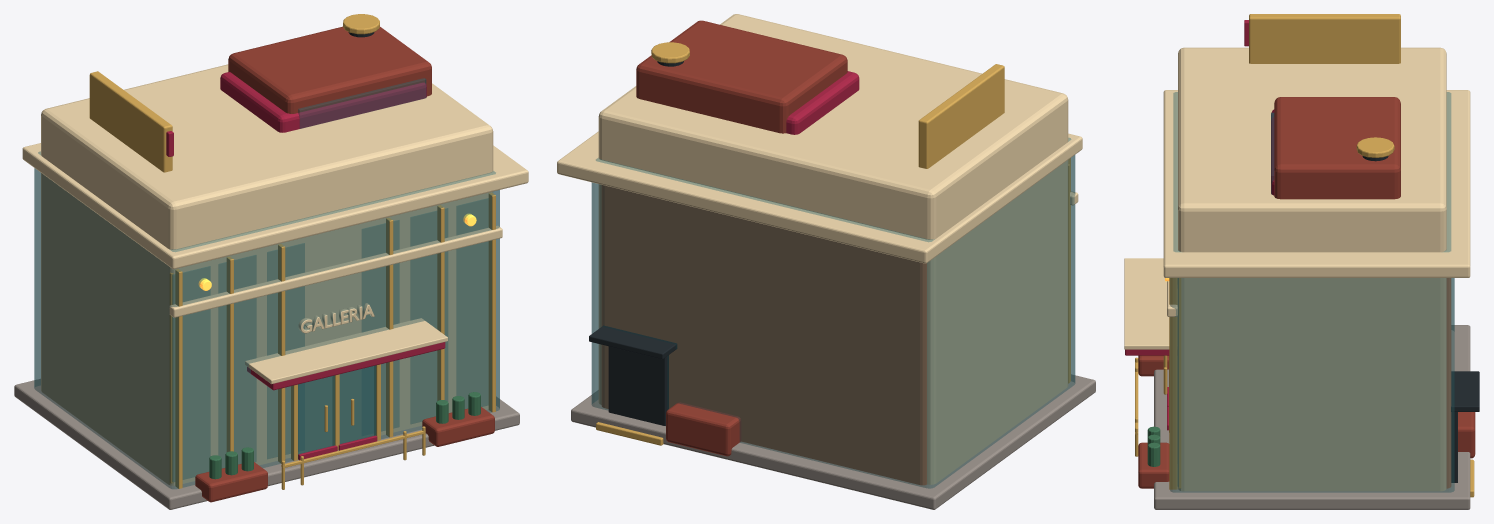
The model's file is glass_pavilion_small.0dfd79a8d670.glb.
The picture shows the model from 3 angles, left to right: view 1: azimuth 30°, elevation 25°; view 2: azimuth 150°, elevation 25°; view 3: azimuth 270°, elevation 25°; orthographic projection. The views are drawn at different scales.
Visible parts, largest first — view 1: LOD2_Small_Massing, LOD1_Small_Glass_Hall, Small_Asymmetric_Roof_Lantern, Small_Roof_Slab, Small_Base_Pad, Small_Front_Curtain_6_GLASS, Small_Front_Curtain_1_GLASS, Small_Front_Curtain_2_GLASS, Small_Canopy_Limestone_Top, Small_Front_Curtain_5_GLASS, Small_Limestone_Belt, Small_Roof_Brass_Blade (+19 smaller); view 2: LOD1_Small_Glass_Hall, LOD2_Small_Massing, Small_Rear_Core, Small_Asymmetric_Roof_Lantern, Small_Roof_Slab, Small_Base_Pad, Small_Roof_Brass_Blade, Small_Service_Door_RECESS, Small_Loading_Box, LOD1_Small_Roof_Lantern, Small_Service_Door_CANOPY, Small_Roof_Exhaust_Cap (+1 smaller); view 3: LOD2_Small_Massing, LOD1_Small_Glass_Hall, Small_Roof_Slab, Small_Asymmetric_Roof_Lantern, Small_Base_Pad, Small_Roof_Brass_Blade, Small_Canopy_Limestone_Top, Small_Brass_Mullion.005, Small_Rear_Core, Small_Service_Door_CANOPY, Small_Planter_2, Small_Front_Curtain_6_FRAME_R (+4 smaller).
Part boxes in pixels (x1=…): LOD2_Small_Massing: x1=41, y1=64, x2=493, y2=485; LOD1_Small_Glass_Hall: x1=34, y1=151, x2=499, y2=488; Small_Asymmetric_Roof_Lantern: x1=228, y1=26, x2=431, y2=113; Small_Roof_Slab: x1=22, y1=143, x2=528, y2=269; Small_Base_Pad: x1=14, y1=379, x2=519, y2=509; Small_Front_Curtain_6_GLASS: x1=456, y1=198, x2=488, y2=408; Small_Front_Curtain_1_GLASS: x1=172, y1=266, x2=210, y2=481; Small_Front_Curtain_2_GLASS: x1=218, y1=255, x2=256, y2=467; Small_Canopy_Limestone_Top: x1=245, y1=318, x2=447, y2=384; Small_Front_Curtain_5_GLASS: x1=410, y1=208, x2=447, y2=423; Small_Limestone_Belt: x1=169, y1=225, x2=502, y2=317; Small_Roof_Brass_Blade: x1=89, y1=71, x2=172, y2=172; LOD1_Small_Glass_Hall: x1=591, y1=138, x2=1075, y2=488; LOD2_Small_Massing: x1=598, y1=14, x2=1068, y2=484; Small_Rear_Core: x1=601, y1=185, x2=926, y2=485; Small_Asymmetric_Roof_Lantern: x1=636, y1=20, x2=847, y2=133; Small_Roof_Slab: x1=557, y1=131, x2=1082, y2=263; Small_Base_Pad: x1=571, y1=374, x2=1095, y2=509; Small_Roof_Brass_Blade: x1=918, y1=64, x2=1004, y2=168; Small_Service_Door_RECESS: x1=608, y1=346, x2=668, y2=425; Small_Loading_Box: x1=666, y1=402, x2=741, y2=456; LOD1_Small_Roof_Lantern: x1=786, y1=71, x2=859, y2=134; Small_Service_Door_CANOPY: x1=589, y1=325, x2=677, y2=359; Small_Roof_Exhaust_Cap: x1=651, y1=42, x2=689, y2=63; LOD2_Small_Massing: x1=1178, y1=47, x2=1446, y2=491; LOD1_Small_Glass_Hall: x1=1170, y1=92, x2=1454, y2=492; Small_Roof_Slab: x1=1163, y1=90, x2=1470, y2=277; Small_Asymmetric_Roof_Lantern: x1=1274, y1=97, x2=1400, y2=199; Small_Base_Pad: x1=1154, y1=325, x2=1470, y2=509; Small_Roof_Brass_Blade: x1=1249, y1=14, x2=1400, y2=63; Small_Canopy_Limestone_Top: x1=1124, y1=258, x2=1169, y2=349; Small_Brass_Mullion.005: x1=1169, y1=278, x2=1177, y2=489; Small_Rear_Core: x1=1446, y1=278, x2=1451, y2=488; Small_Service_Door_CANOPY: x1=1451, y1=371, x2=1479, y2=411; Small_Planter_2: x1=1138, y1=442, x2=1169, y2=488; Small_Front_Curtain_6_FRAME_R: x1=1178, y1=278, x2=1181, y2=486.
Bounding box in the file's own units: 13.5 × 12.2 × 11.24.
